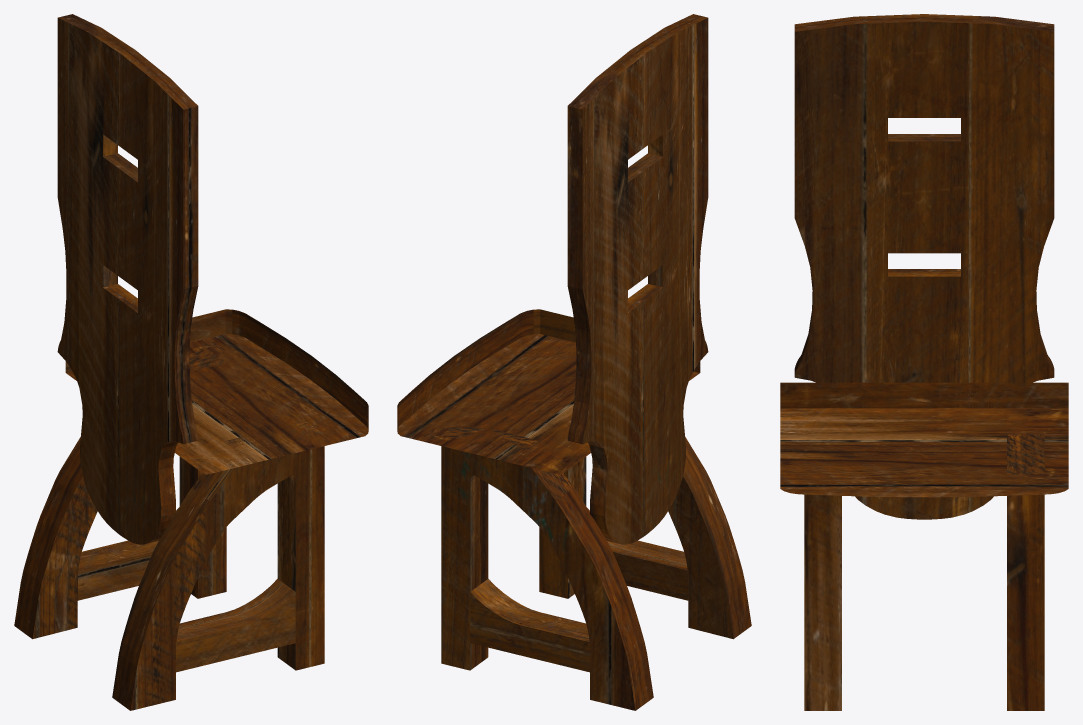
Rendered from stul untitled.fbx.
3 views of the same model, side by side, from view 1: azimuth 30°, elevation 25°; view 2: azimuth 150°, elevation 25°; view 3: azimuth 270°, elevation 25° (orthographic). The views are drawn at different scales.
Parts seen in each view (by area): view 1: Cube.002; view 2: Cube.002; view 3: Cube.002.
Part boxes in pixels (x1,y1,x2,y2): Cube.002: (14,14,368,710); Cube.002: (397,14,751,710); Cube.002: (780,14,1068,710).
Size of the model in its own units: 9.49 by 22.77 by 9.55.
